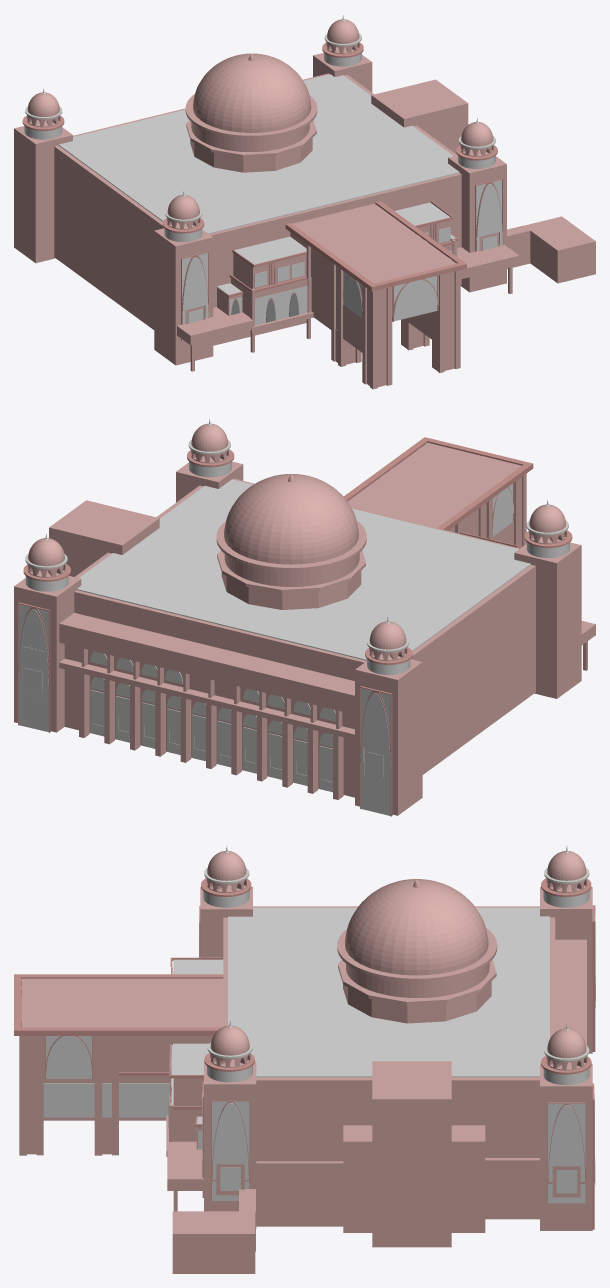
File: UMS Pink Mosque.glb
The picture shows the model from 3 angles, top to bottom: view 1: azimuth 30°, elevation 25°; view 2: azimuth 150°, elevation 25°; view 3: azimuth 270°, elevation 25°; orthographic projection. The views are drawn at different scales.
Visible parts, largest first — view 1: Mesh_Mesh_head_geo.001_lambert2SG.001; view 2: Mesh_Mesh_head_geo.001_lambert2SG.001; view 3: Mesh_Mesh_head_geo.001_lambert2SG.001.
Part boxes in pixels (left/top/right/bottom): Mesh_Mesh_head_geo.001_lambert2SG.001: left=14, top=15, right=595, bottom=389; Mesh_Mesh_head_geo.001_lambert2SG.001: left=14, top=419, right=595, bottom=816; Mesh_Mesh_head_geo.001_lambert2SG.001: left=14, top=846, right=595, bottom=1273.
Bounding box in the file's own units: 116 × 55.8 × 117.
